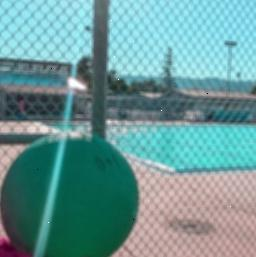algae: (2, 132, 137, 257)
